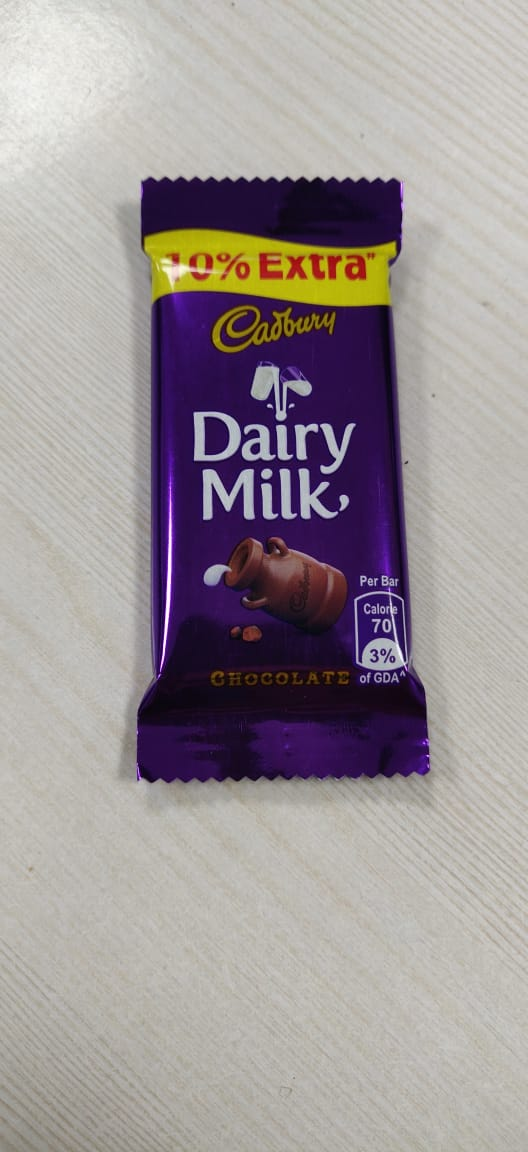dairy milk: (115, 160, 457, 811)
